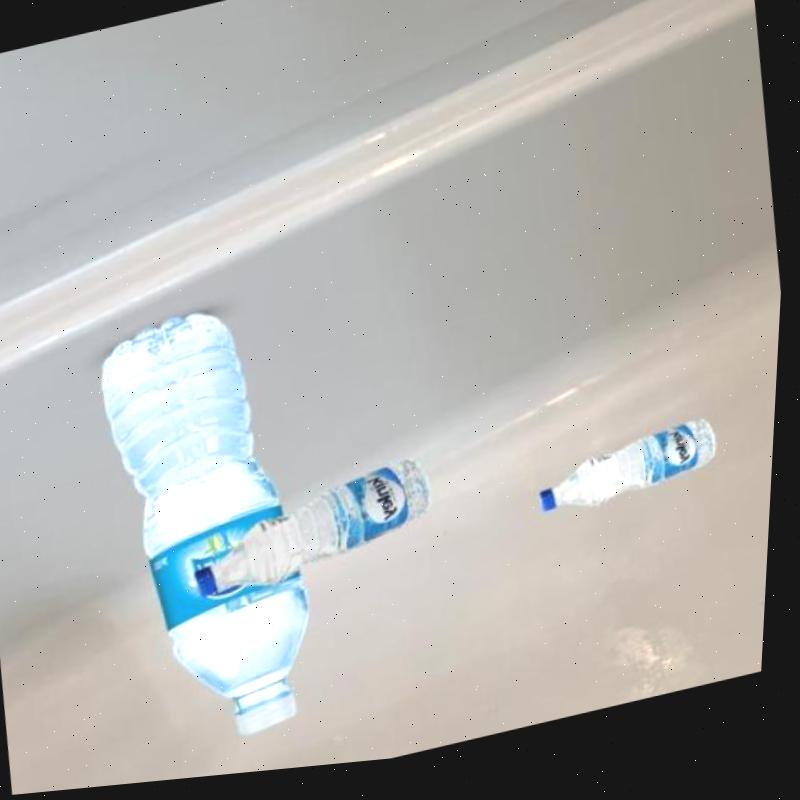botella: (87, 294, 344, 769), (190, 453, 451, 615), (527, 419, 731, 540)
